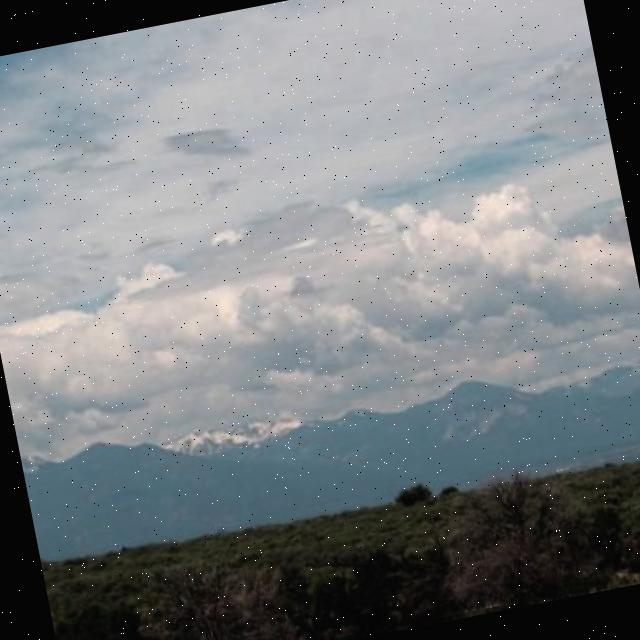Cs: (1, 34, 640, 450)
